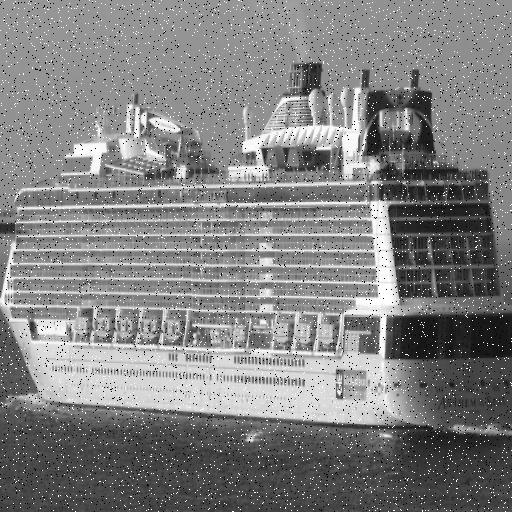cruises: (1, 57, 512, 439)
